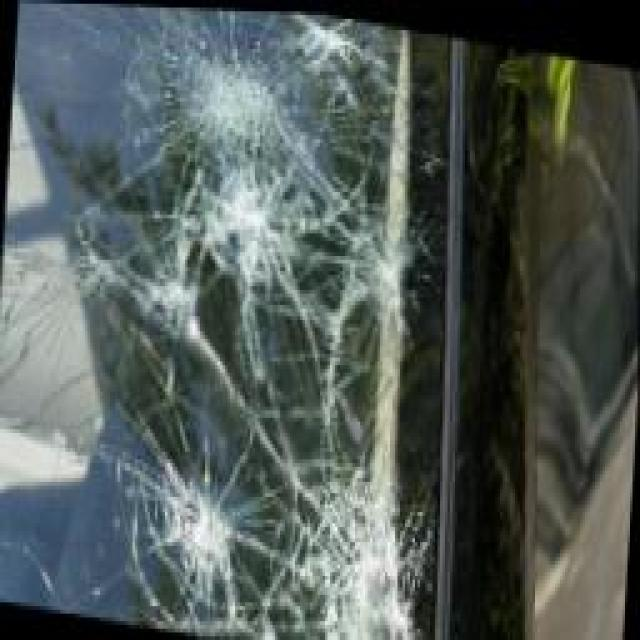Windshield: (0, 0, 480, 640)
